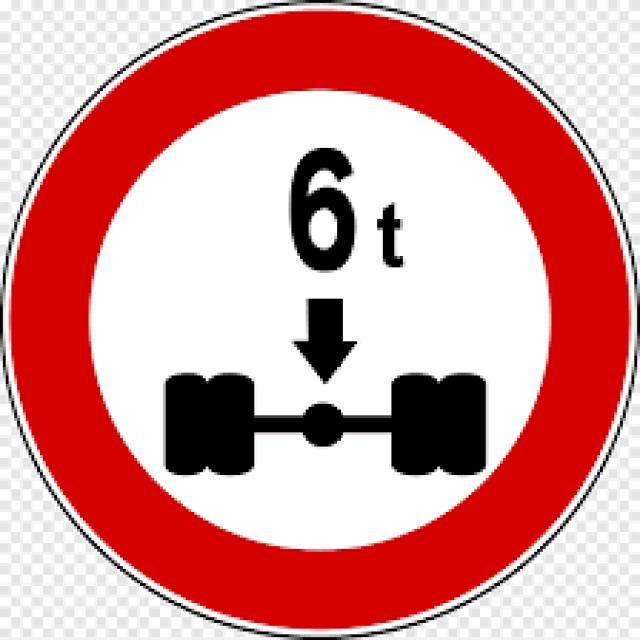axle load limit: (24, 20, 623, 605)
